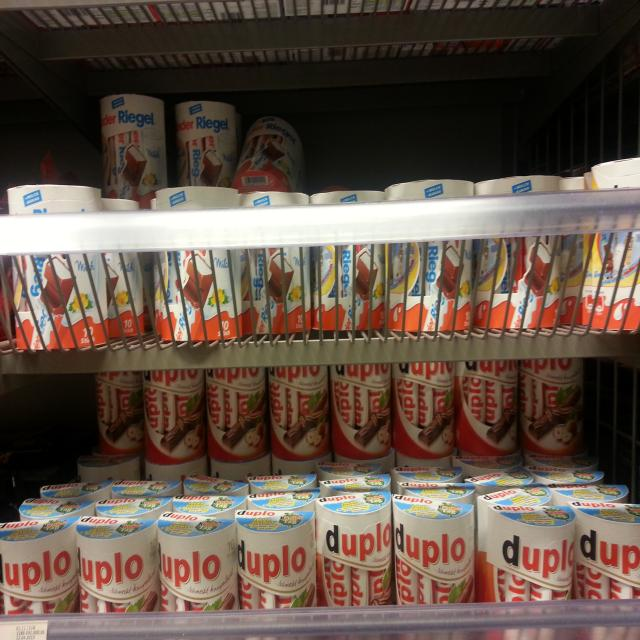chocolate: (5, 176, 109, 350), (150, 186, 248, 353), (383, 168, 474, 342), (472, 177, 565, 336), (478, 488, 570, 638), (308, 193, 391, 345), (240, 191, 320, 343), (3, 511, 92, 640), (76, 515, 164, 640), (396, 492, 484, 617), (579, 157, 640, 328), (567, 497, 640, 626), (161, 508, 239, 628), (314, 491, 391, 606), (93, 98, 172, 200), (513, 356, 588, 462), (163, 92, 244, 188), (390, 362, 460, 473), (211, 362, 273, 482), (148, 364, 214, 473), (455, 361, 518, 468), (329, 364, 389, 469), (277, 368, 332, 473), (96, 374, 148, 459)
